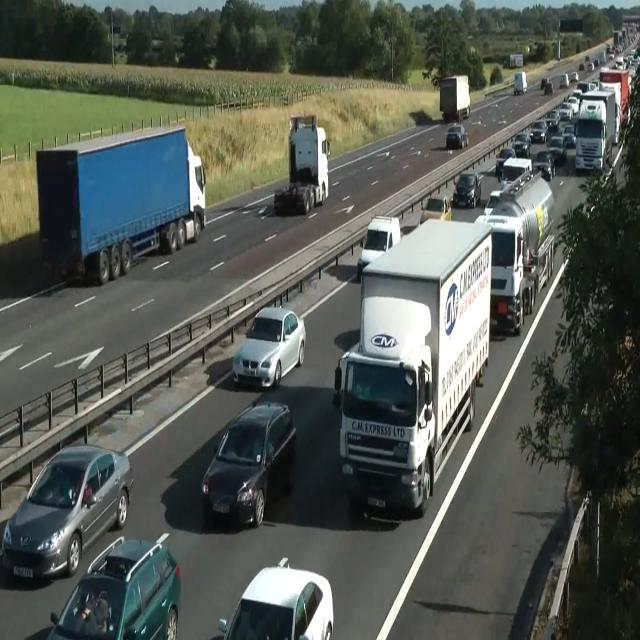bus: (1, 444, 133, 582), (48, 532, 181, 639), (217, 557, 334, 639), (232, 305, 306, 389), (357, 214, 401, 280), (452, 171, 482, 208), (419, 195, 452, 225), (484, 189, 516, 215), (532, 150, 556, 182), (445, 122, 468, 148), (495, 148, 516, 176), (547, 135, 567, 163), (510, 132, 532, 156), (529, 120, 548, 143), (542, 109, 560, 131), (560, 124, 576, 148), (557, 102, 573, 122), (567, 96, 579, 116), (541, 78, 553, 94), (559, 71, 569, 88), (570, 70, 578, 82)
car: (474, 172, 556, 334)
jeep: (200, 398, 296, 528)
minibus: (333, 217, 492, 517), (35, 124, 206, 286), (274, 114, 330, 215), (574, 88, 618, 172), (598, 68, 630, 144), (439, 74, 471, 122), (513, 71, 527, 95), (509, 54, 523, 68)
